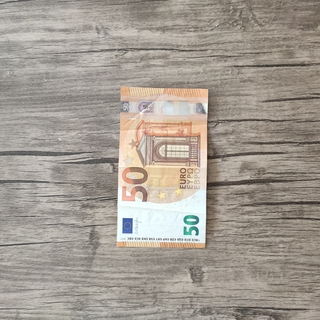50EUROFront: (115, 84, 209, 249)
